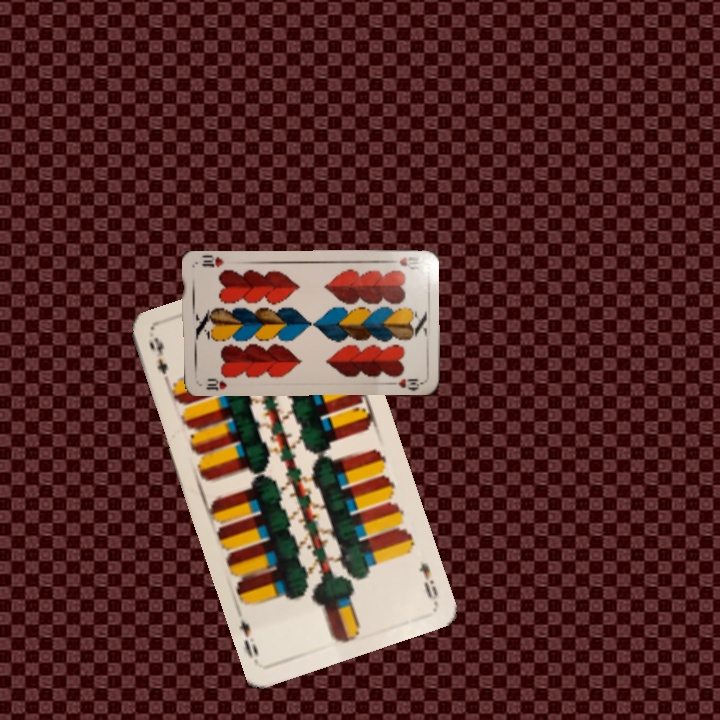E9: (145, 333, 179, 390), (415, 558, 441, 605)
H10: (384, 252, 424, 271), (202, 375, 229, 393)
